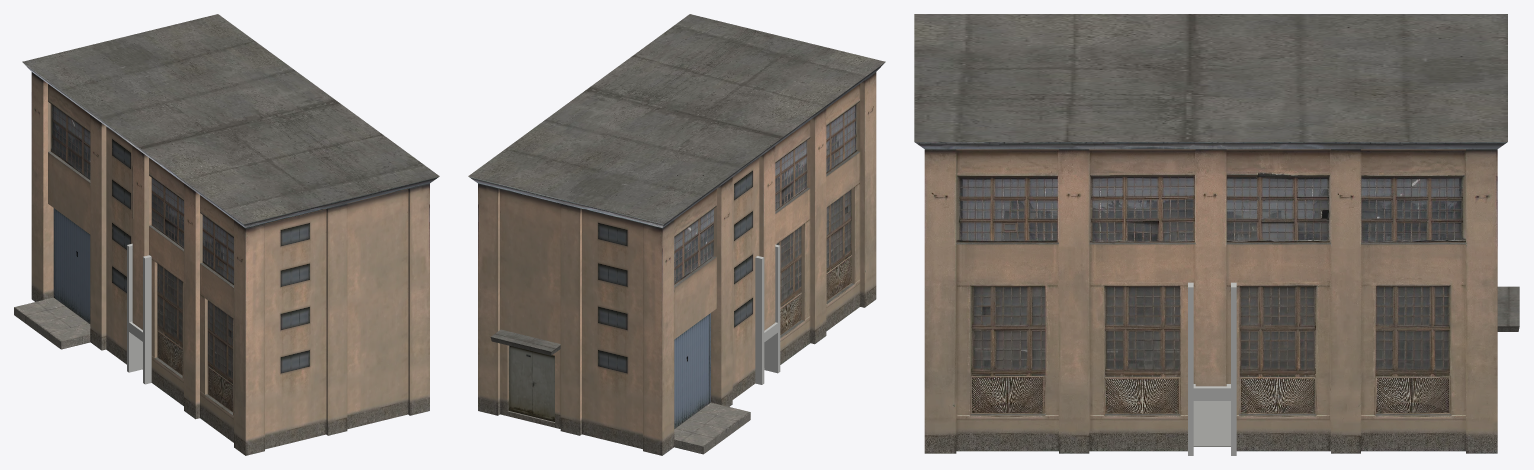
Rendered from factory-hall.access-v12.lod0.glb.
3 renders of one model, left to right at view 1: azimuth 30°, elevation 25°; view 2: azimuth 150°, elevation 25°; view 3: azimuth 270°, elevation 25°, orthographic. The views are drawn at different scales.
Visible parts, largest first — view 1: factory_1_factory_1_0, Walkable floors and stairs; view 2: factory_1_factory_1_0, Walkable floors and stairs; view 3: factory_1_factory_1_0, Walkable floors and stairs (×2).
Part boxes in pixels (bbox=[...]): factory_1_factory_1_0: bbox=[14, 14, 439, 455]; Walkable floors and stairs: bbox=[127, 243, 151, 384]; factory_1_factory_1_0: bbox=[468, 14, 885, 455]; Walkable floors and stairs: bbox=[755, 244, 780, 384]; factory_1_factory_1_0: bbox=[914, 14, 1519, 453]; Walkable floors and stairs (×2): bbox=[1188, 282, 1236, 455].
Bounding box in the file's own units: 14.59 × 14.96 × 26.
Materials: 3 (1 with a texture image).
